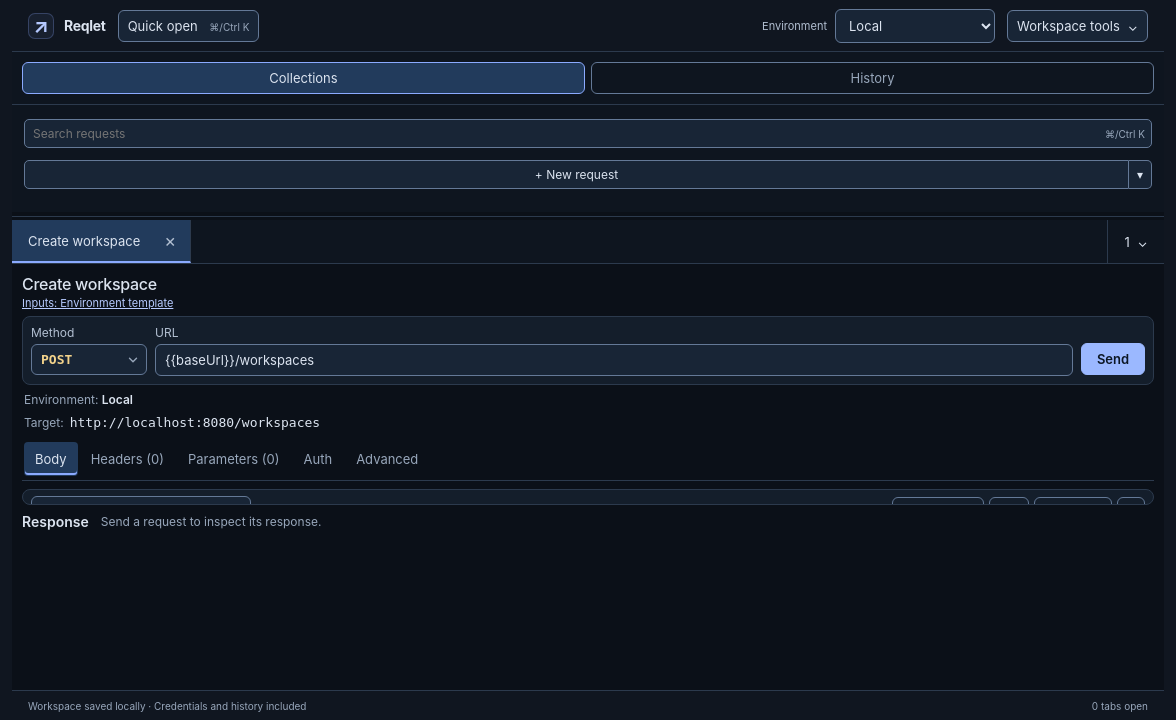
Test: opens an earlier IndexedDB workspace and saves edits without losing its restored request tab
Expected: the tab "Create workspace" is shown, top-left (12, 220), bottom-right (156, 260)
Replace the text in the dropdown named "Request URL" with "https://edited.test/recovered-workspace" at x=614, y=360, box top-left (155, 344), bottom-right (1073, 376)
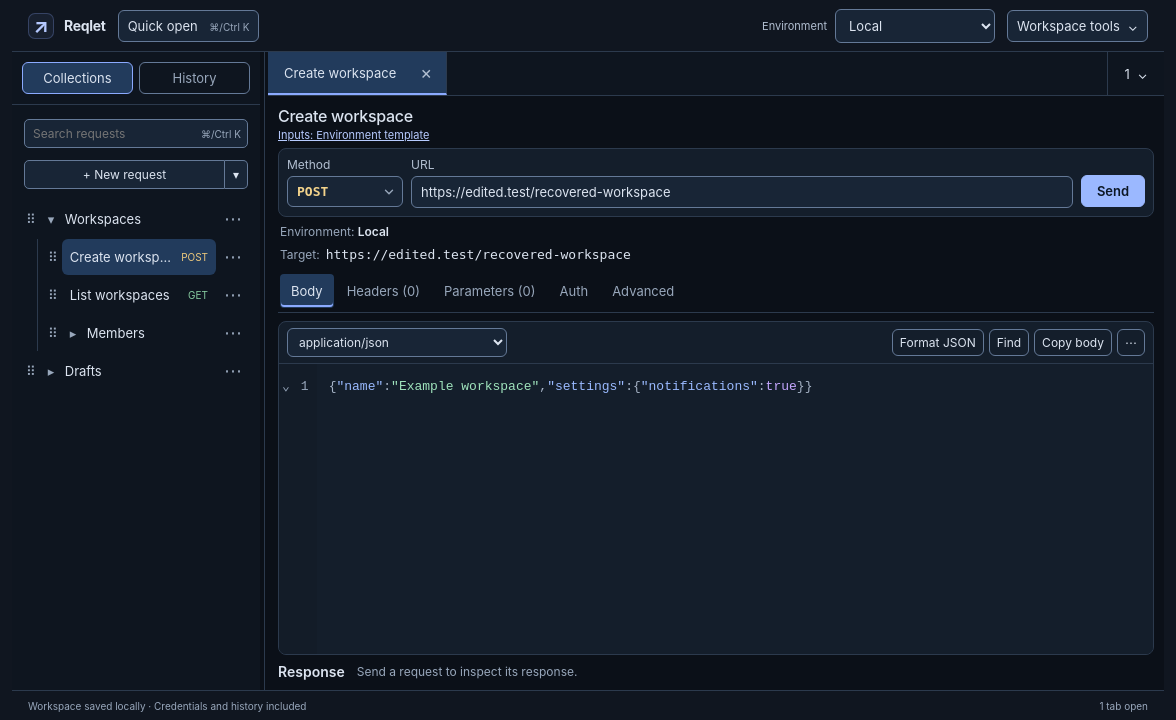
Expected: the text "https://edited.test/recovered-workspace" is shown, top-left (326, 247), bottom-right (631, 262)
